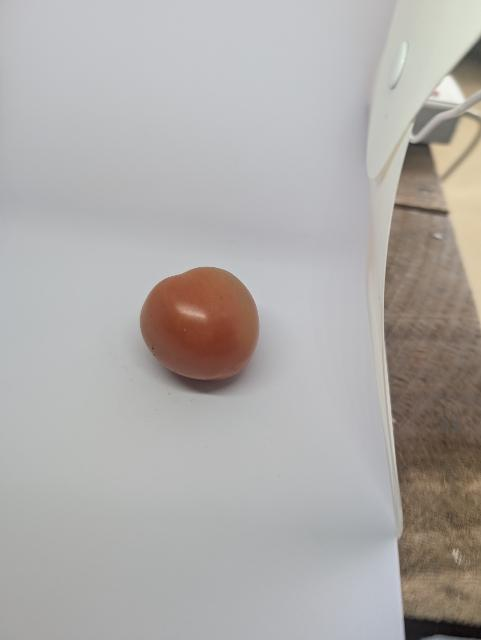red: (139, 260, 269, 393)
